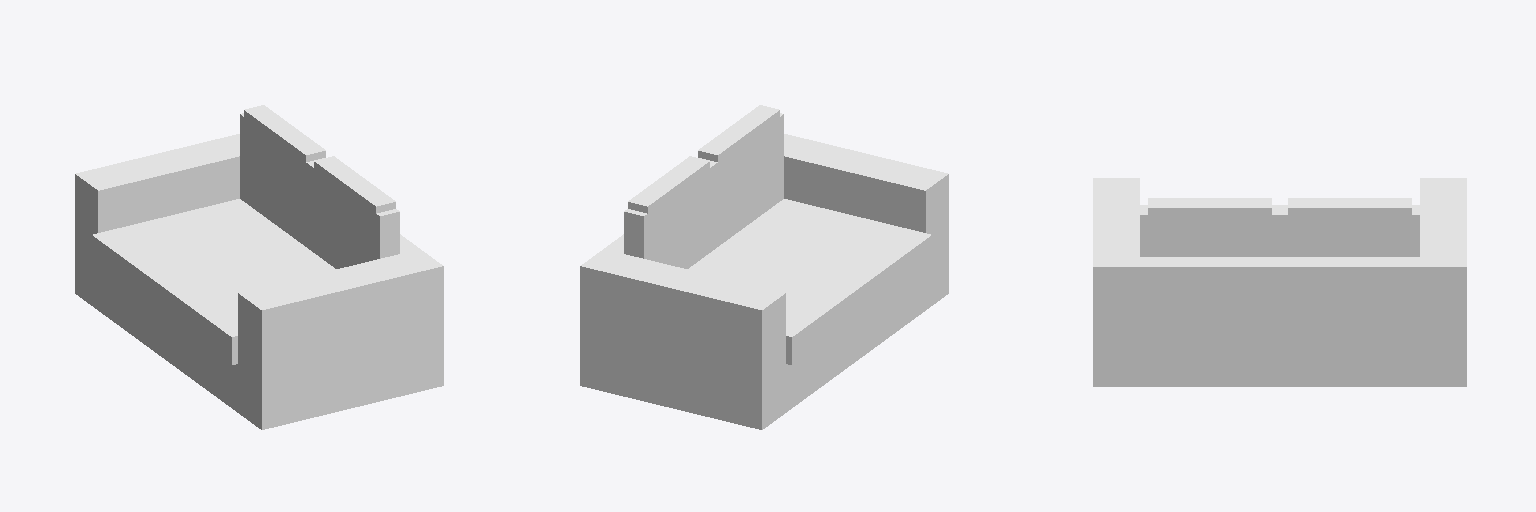
The model's file is test_couch.obj.
3 views of the same model, side by side, from view 1: azimuth 30°, elevation 25°; view 2: azimuth 150°, elevation 25°; view 3: azimuth 270°, elevation 25° (orthographic).
Parts seen in each view (by area): view 1: object 1; view 2: object 1; view 3: object 1.
Boxes of the visible parts, <box> form: object 1: <box>75,105,443,429</box>; object 1: <box>580,105,948,429</box>; object 1: <box>1093,178,1466,386</box>.
Bounding box in the file's own units: 2.8 × 2.4 × 4.8.